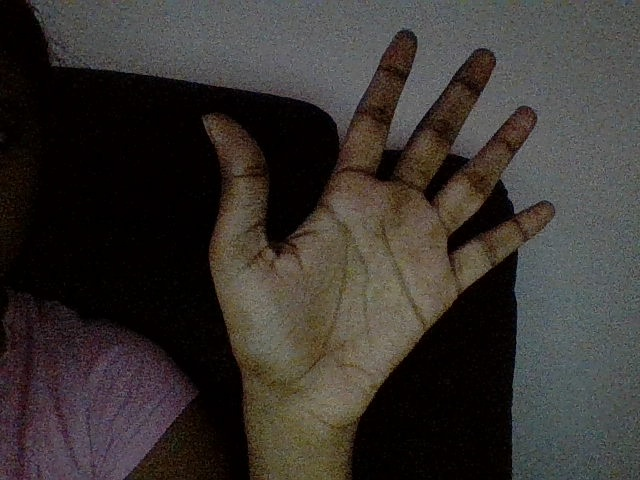Hello: (142, 22, 583, 409)
